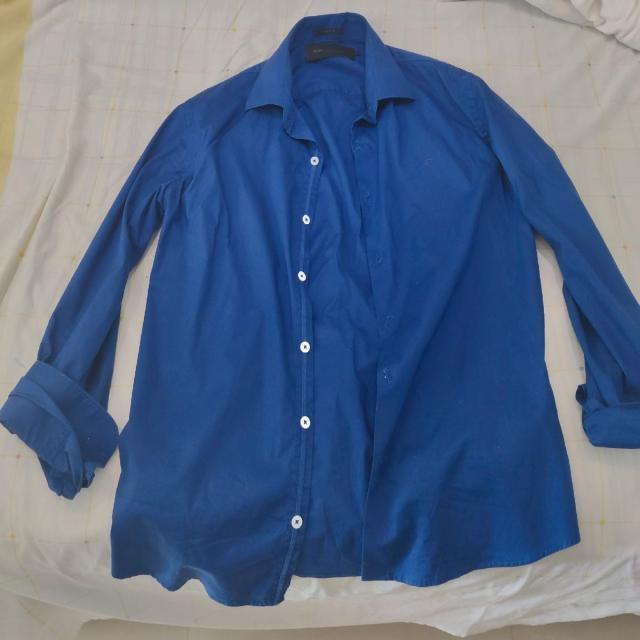long sleeve shirt: (0, 6, 640, 614)
